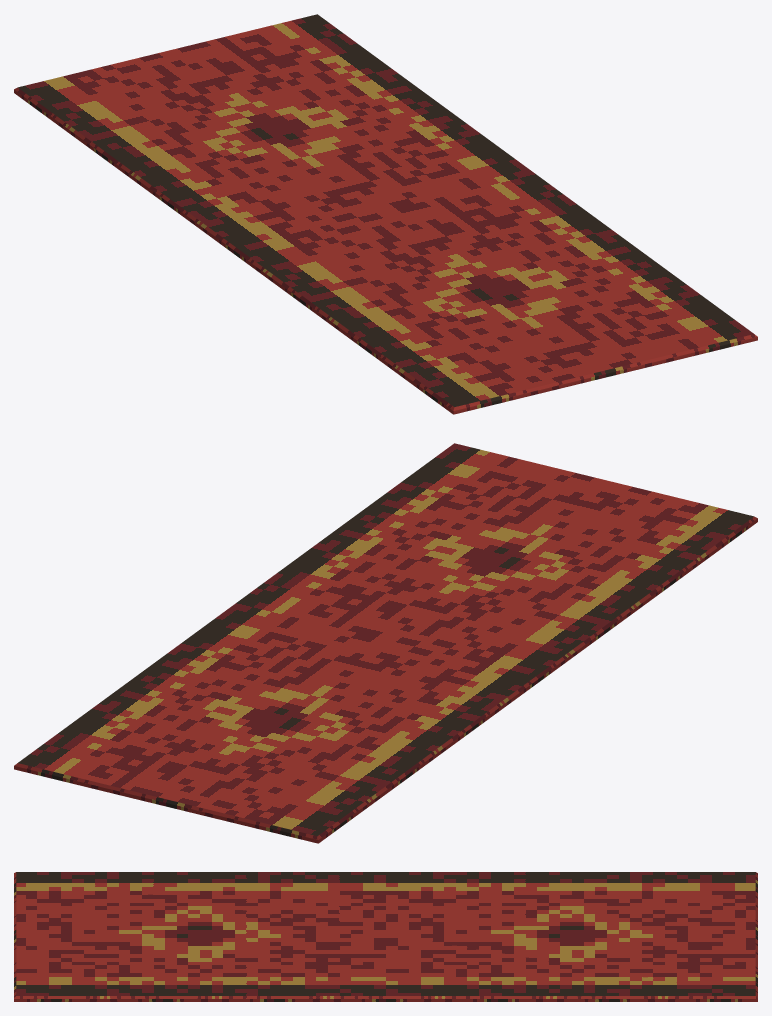
The model's file is cst.carpet__short.glb.
3 renders of one model, top to bottom at view 1: azimuth 30°, elevation 25°; view 2: azimuth 150°, elevation 25°; view 3: azimuth 270°, elevation 25°, orthographic. The views are drawn at different scales.
Visible parts, largest first — view 1: kit_carpet; view 2: kit_carpet; view 3: kit_carpet.
Part boxes in pixels (x1,y1,x2,y2): kit_carpet: (14, 14, 757, 414); kit_carpet: (14, 443, 757, 843); kit_carpet: (14, 872, 757, 1001).
Bounding box in the file's own units: 1.6 × 0.03 × 4.
Materials: 1 (1 with a texture image).
